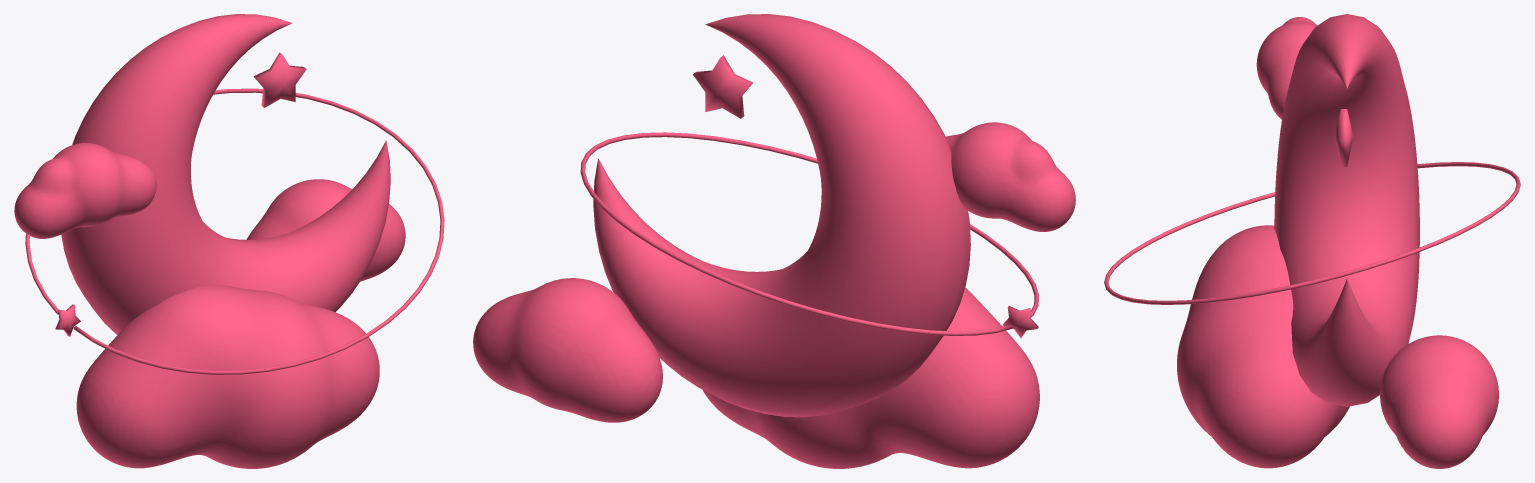
Rendered from dream.glb.
3 views of the same model, side by side, from view 1: azimuth 30°, elevation 25°; view 2: azimuth 150°, elevation 25°; view 3: azimuth 270°, elevation 25° (orthographic). The views are drawn at different scales.
Visible parts, largest first — view 1: moon, cloud2, cloud1, cloud3, BézierCircle, star1; view 2: moon, cloud2, cloud3, cloud1, BézierCircle, star1; view 3: moon, cloud2, cloud3, BézierCircle, cloud1, star1.
Part boxes in pixels (box(x1,y1,x2,y2)): moon: box(61, 14, 390, 334); cloud2: box(76, 285, 379, 468); cloud1: box(14, 143, 156, 238); cloud3: box(246, 179, 405, 281); BézierCircle: box(25, 88, 444, 374); star1: box(253, 52, 306, 107); moon: box(593, 14, 970, 417); cloud2: box(702, 287, 1039, 468); cloud3: box(473, 278, 662, 422); cloud1: box(946, 122, 1075, 231); BézierCircle: box(580, 132, 1038, 337); star1: box(693, 55, 752, 118); moon: box(1274, 14, 1419, 406); cloud2: box(1177, 225, 1349, 468); cloud3: box(1380, 335, 1498, 468); BézierCircle: box(1104, 162, 1520, 304); cloud1: box(1256, 17, 1317, 119); star1: box(1334, 109, 1353, 167).
Bounding box in the file's own units: 1.79 × 1.56 × 1.4.
